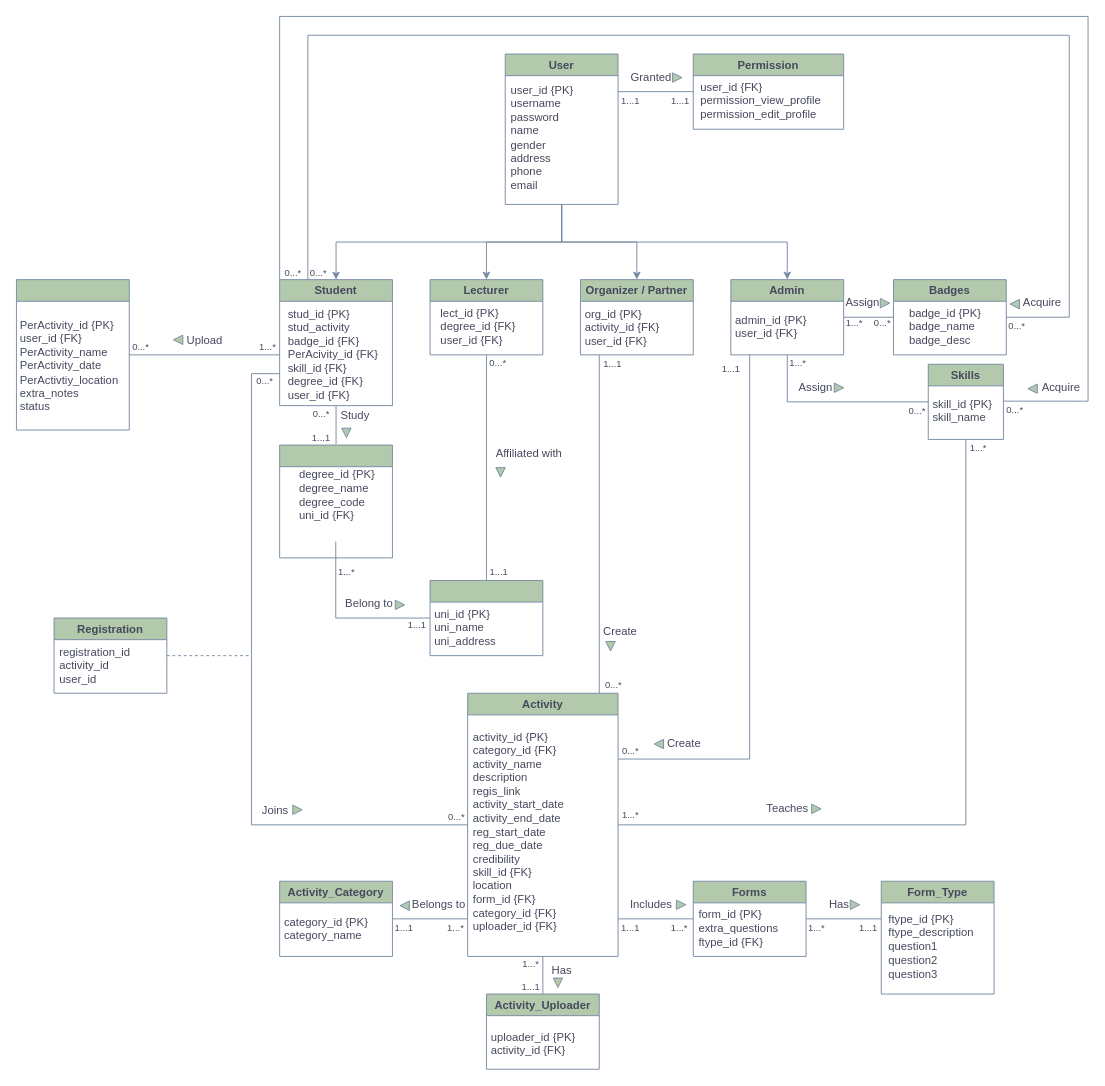
The diagram is 1105 pixels wide and 1086 high, and some of its shapes have lost their labels. The shapes that lost their labels are listed below. From the top down, each one's centre as x and y in pixels, then its label:
pixel 72 354: Personal_Activity
pixel 335 501: Degree
pixel 486 618: University
